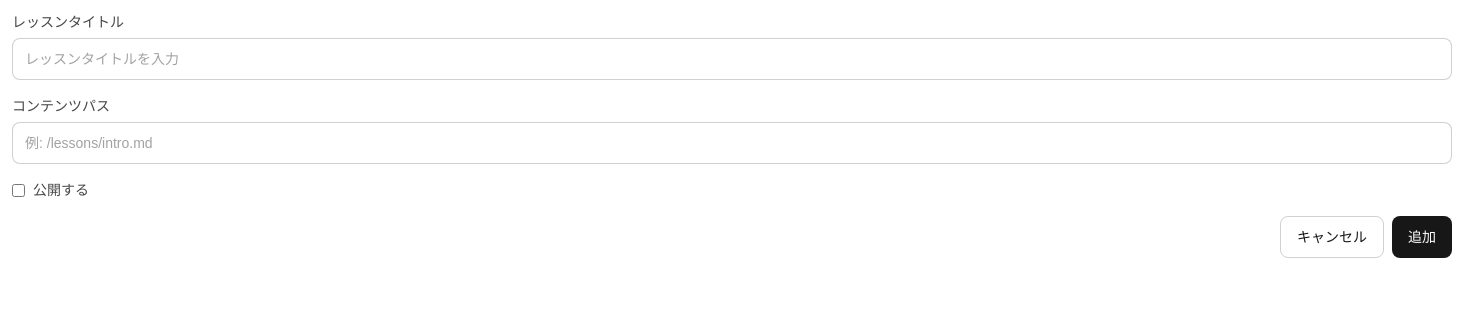
Scenario: LessonForm › shows validation error for empty fields
This screenshot has width=1464, height=319.
Click the button "追加": (1422, 237) [1392,216,1452,258]
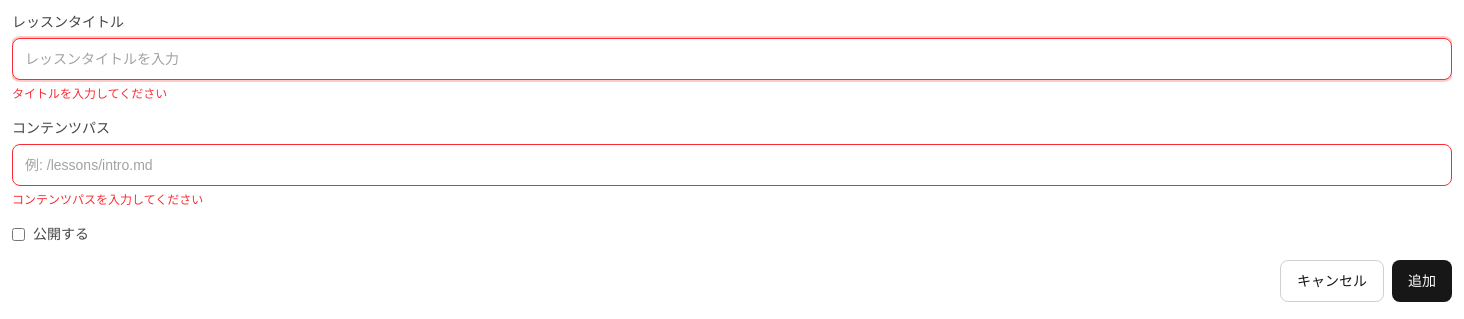
Check: the text "タイトルを入力してください" is shown, box [12,87,167,101]
Check: the text "コンテンツパスを入力してください" is shown, box [12,193,203,207]
